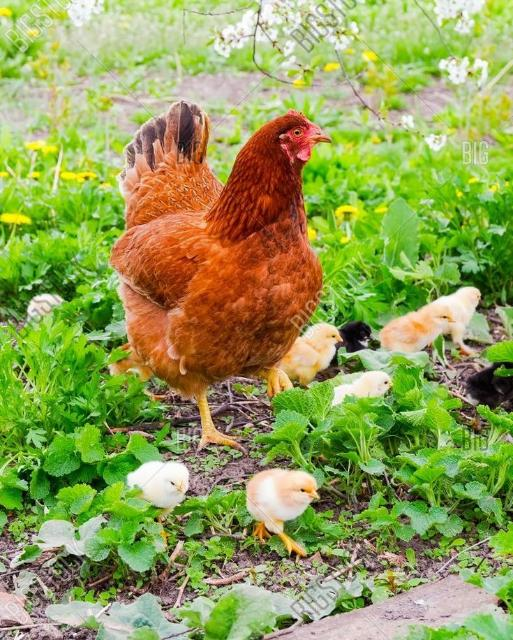Chicken: (109, 99, 331, 455)
